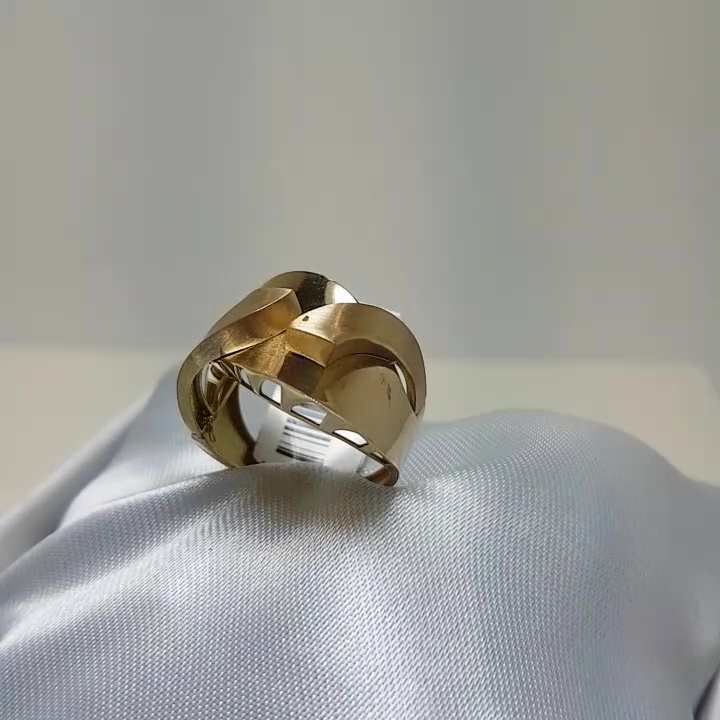Ring 4: (153, 262, 438, 507)
